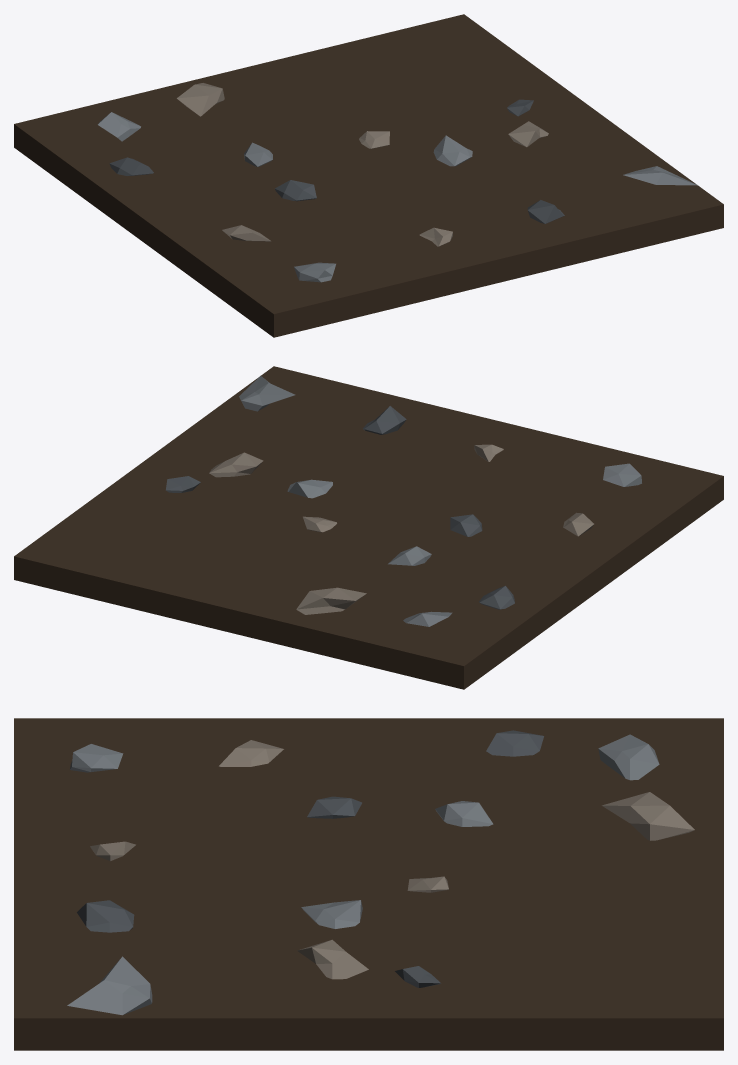
The model's file is mdvl_nature_riverbed_01.glb.
3 renders of one model, top to bottom at view 1: azimuth 30°, elevation 25°; view 2: azimuth 150°, elevation 25°; view 3: azimuth 270°, elevation 25°, orthographic. The views are drawn at different scales.
Visible parts, largest first — view 1: mdvl_nature_riverbed_01; view 2: mdvl_nature_riverbed_01; view 3: mdvl_nature_riverbed_01.
Boxes of the visible parts, x1=… form: mdvl_nature_riverbed_01: x1=14, y1=14, x2=723, y2=337; mdvl_nature_riverbed_01: x1=14, y1=366, x2=723, y2=689; mdvl_nature_riverbed_01: x1=14, y1=718, x2=723, y2=1050.
Bounding box in the file's own units: 2 × 0.1654 × 2.
Materials: 1 (1 with a texture image).
